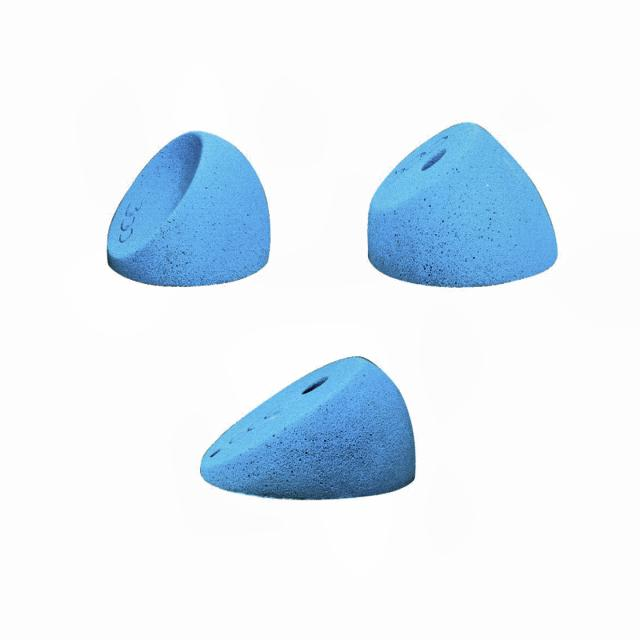Hold: (366, 122, 562, 288), (200, 356, 429, 498), (102, 130, 272, 286)
